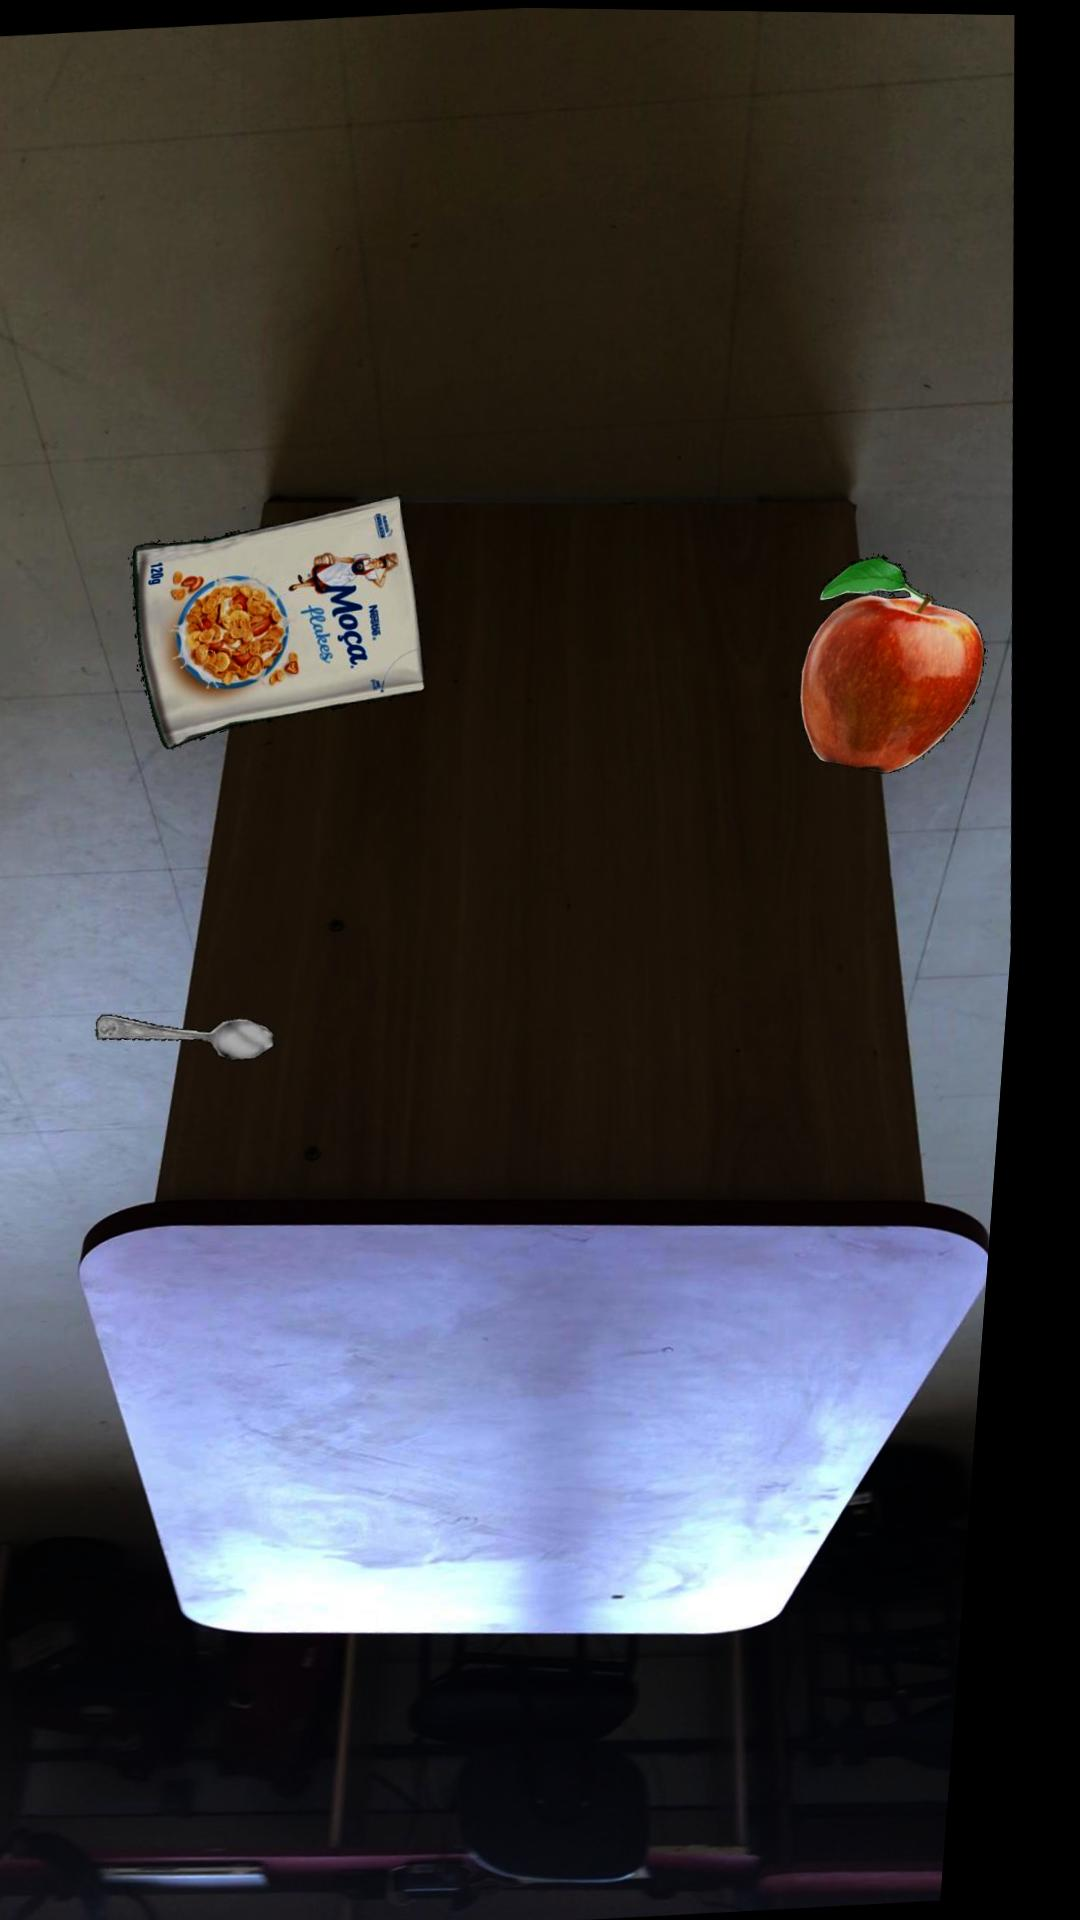apple: (807, 553, 993, 771)
corn flakes: (138, 495, 434, 749)
spoon: (108, 1014, 287, 1060)
